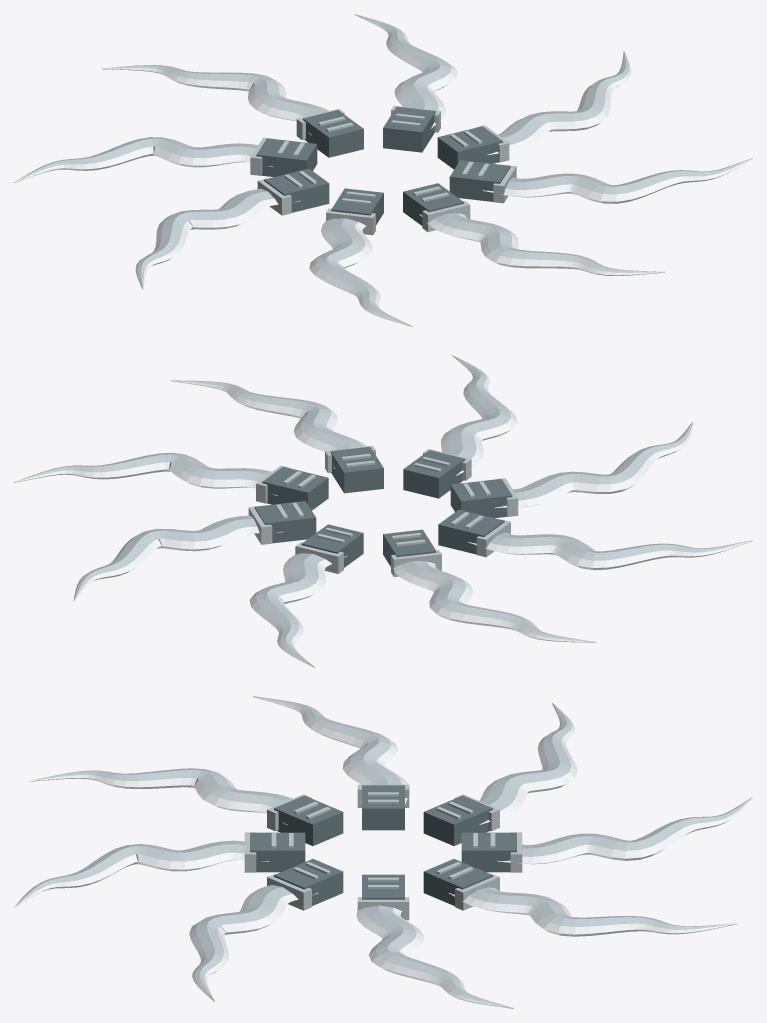
Rendered from knives.glb.
The picture shows the model from 3 angles, top to bottom: view 1: azimuth 30°, elevation 25°; view 2: azimuth 150°, elevation 25°; view 3: azimuth 270°, elevation 25°; orthographic projection. The views are drawn at different scales.
Parts seen in each view (by area): view 1: blade-0:blade-steel, blade-7:blade-steel, blade-1:blade-steel, blade-2:blade-steel, blade-3:blade-steel, blade-4:blade-steel, blade-6:blade-steel, blade-5:blade-steel, blade-7:blade-edge-steel, blade-0:blade-edge-steel, blade-4:secondary-carbon, blade-3:blade-edge-steel (+18 smaller); view 2: blade-2:blade-steel, blade-3:blade-steel, blade-5:blade-steel, blade-4:blade-steel, blade-6:blade-steel, blade-1:blade-steel, blade-7:blade-steel, blade-0:blade-steel, blade-2:blade-edge-steel, blade-0:secondary-carbon, blade-6:blade-edge-steel, blade-3:blade-edge-steel (+19 smaller); view 3: blade-0:blade-steel, blade-5:blade-steel, blade-6:blade-steel, blade-7:blade-steel, blade-4:blade-steel, blade-1:blade-steel, blade-3:blade-steel, blade-2:blade-steel, blade-5:blade-edge-steel, blade-1:secondary-carbon, blade-3:secondary-carbon, blade-4:blade-edge-steel (+20 smaller).
Boxes of the visible parts, x1,y1,x2,y2 form: blade-0:blade-steel: [434, 213, 664, 272]; blade-7:blade-steel: [506, 158, 752, 194]; blade-1:blade-steel: [315, 218, 412, 326]; blade-2:blade-steel: [137, 188, 274, 289]; blade-3:blade-steel: [14, 137, 257, 182]; blade-4:blade-steel: [102, 65, 327, 116]; blade-6:blade-steel: [498, 51, 629, 144]; blade-5:blade-steel: [354, 14, 451, 128]; blade-7:blade-edge-steel: [482, 158, 752, 203]; blade-0:blade-edge-steel: [419, 213, 664, 275]; blade-4:secondary-carbon: [303, 110, 363, 157]; blade-3:blade-edge-steel: [14, 146, 273, 182]; blade-2:blade-steel: [490, 533, 752, 560]; blade-3:blade-steel: [401, 561, 596, 642]; blade-5:blade-steel: [73, 515, 257, 601]; blade-4:blade-steel: [256, 553, 325, 667]; blade-6:blade-steel: [14, 452, 271, 482]; blade-1:blade-steel: [513, 421, 693, 500]; blade-7:blade-steel: [171, 380, 363, 449]; blade-0:blade-steel: [447, 355, 510, 475]; blade-2:blade-edge-steel: [468, 532, 752, 570]; blade-0:secondary-carbon: [403, 450, 465, 498]; blade-6:blade-edge-steel: [14, 459, 277, 495]; blade-3:blade-edge-steel: [393, 561, 595, 642]; blade-0:blade-steel: [14, 840, 244, 907]; blade-5:blade-steel: [469, 887, 736, 929]; blade-6:blade-steel: [364, 905, 513, 1008]; blade-7:blade-steel: [195, 885, 292, 1001]; blade-4:blade-steel: [522, 797, 752, 856]; blade-1:blade-steel: [30, 768, 291, 824]; blade-3:blade-steel: [482, 703, 571, 810]; blade-2:blade-steel: [253, 696, 401, 804]; blade-5:blade-edge-steel: [449, 887, 736, 936]; blade-1:secondary-carbon: [274, 795, 343, 845]; blade-3:secondary-carbon: [423, 795, 492, 845]; blade-4:blade-edge-steel: [497, 797, 752, 864].
Bounding box in the file's own units: 1.59 × 0.056 × 1.59.
